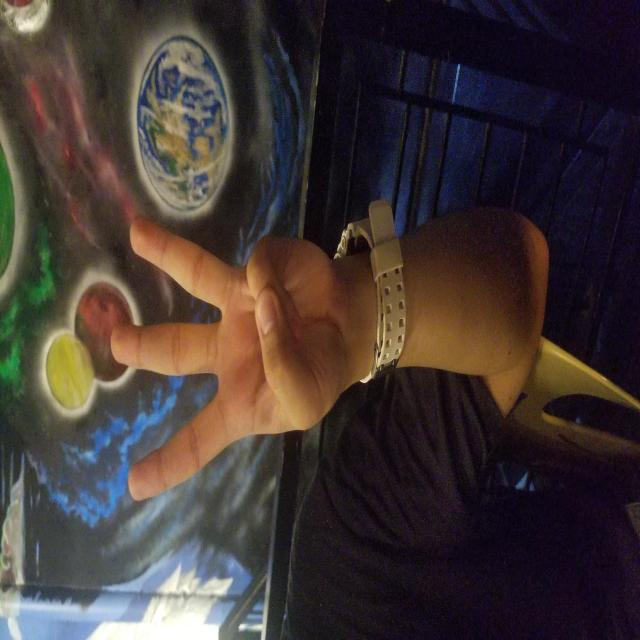W: (139, 111, 424, 336)
